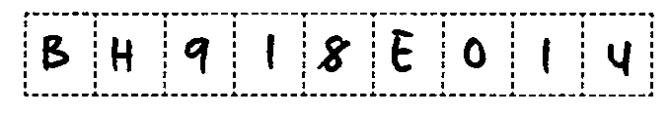0: (458, 34, 492, 71)
1: (252, 28, 286, 77), (531, 32, 562, 78)
4: (600, 34, 639, 80)
8: (314, 29, 357, 78)
9: (182, 33, 215, 75)
B: (36, 29, 74, 73)
E: (385, 24, 420, 76)
H: (103, 33, 145, 77)
